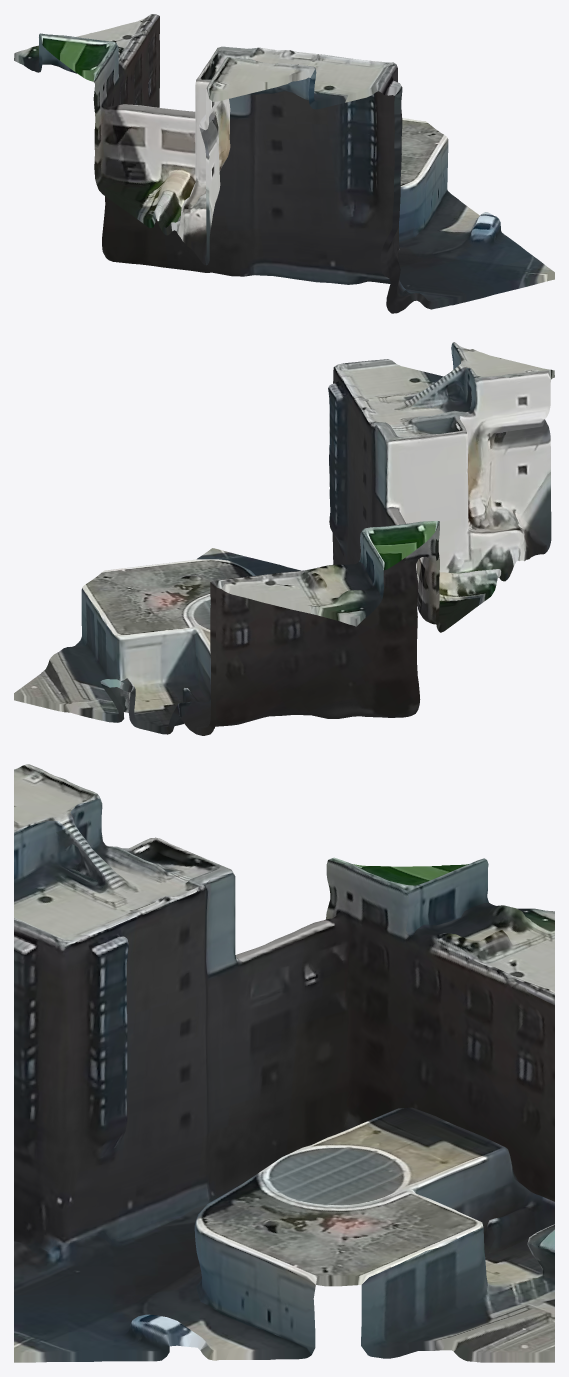
The model's file is z20-167791-405226-h0-yup-uvflip-v3-world.glb.
3 views of the same model, one above another, from view 1: azimuth 30°, elevation 25°; view 2: azimuth 150°, elevation 25°; view 3: azimuth 270°, elevation 25° (orthographic). The views are drawn at different scales.
Size of the model in its own units: 30.2 by 23.04 by 30.32.
Materials: 1 (1 with a texture image).
